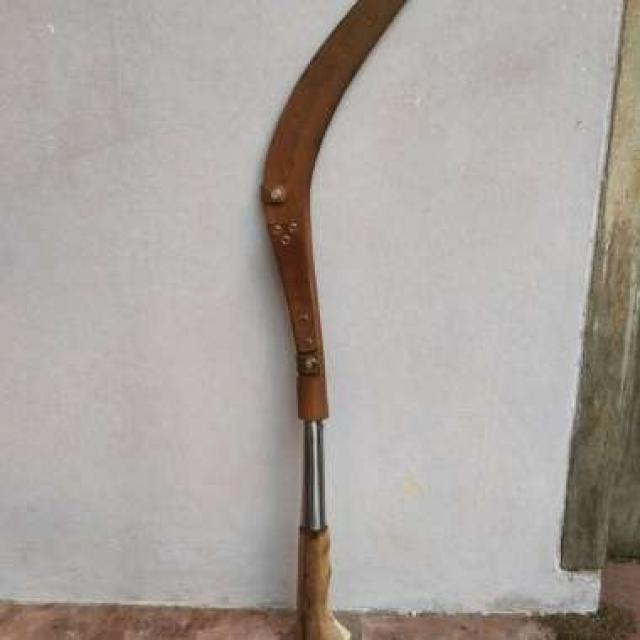machete: (256, 0, 401, 640)
